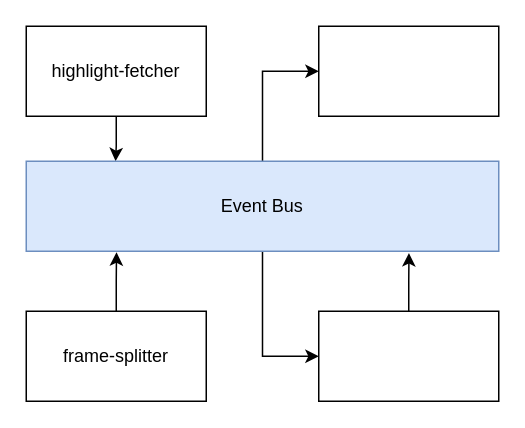
Image size: 525x428. Some labels were removed from this diagram. The centre of each missing label's shape, as x and y in pixels:
"cutter" belongs at pixel 408 70.
"time-finder" belongs at pixel 408 355.
